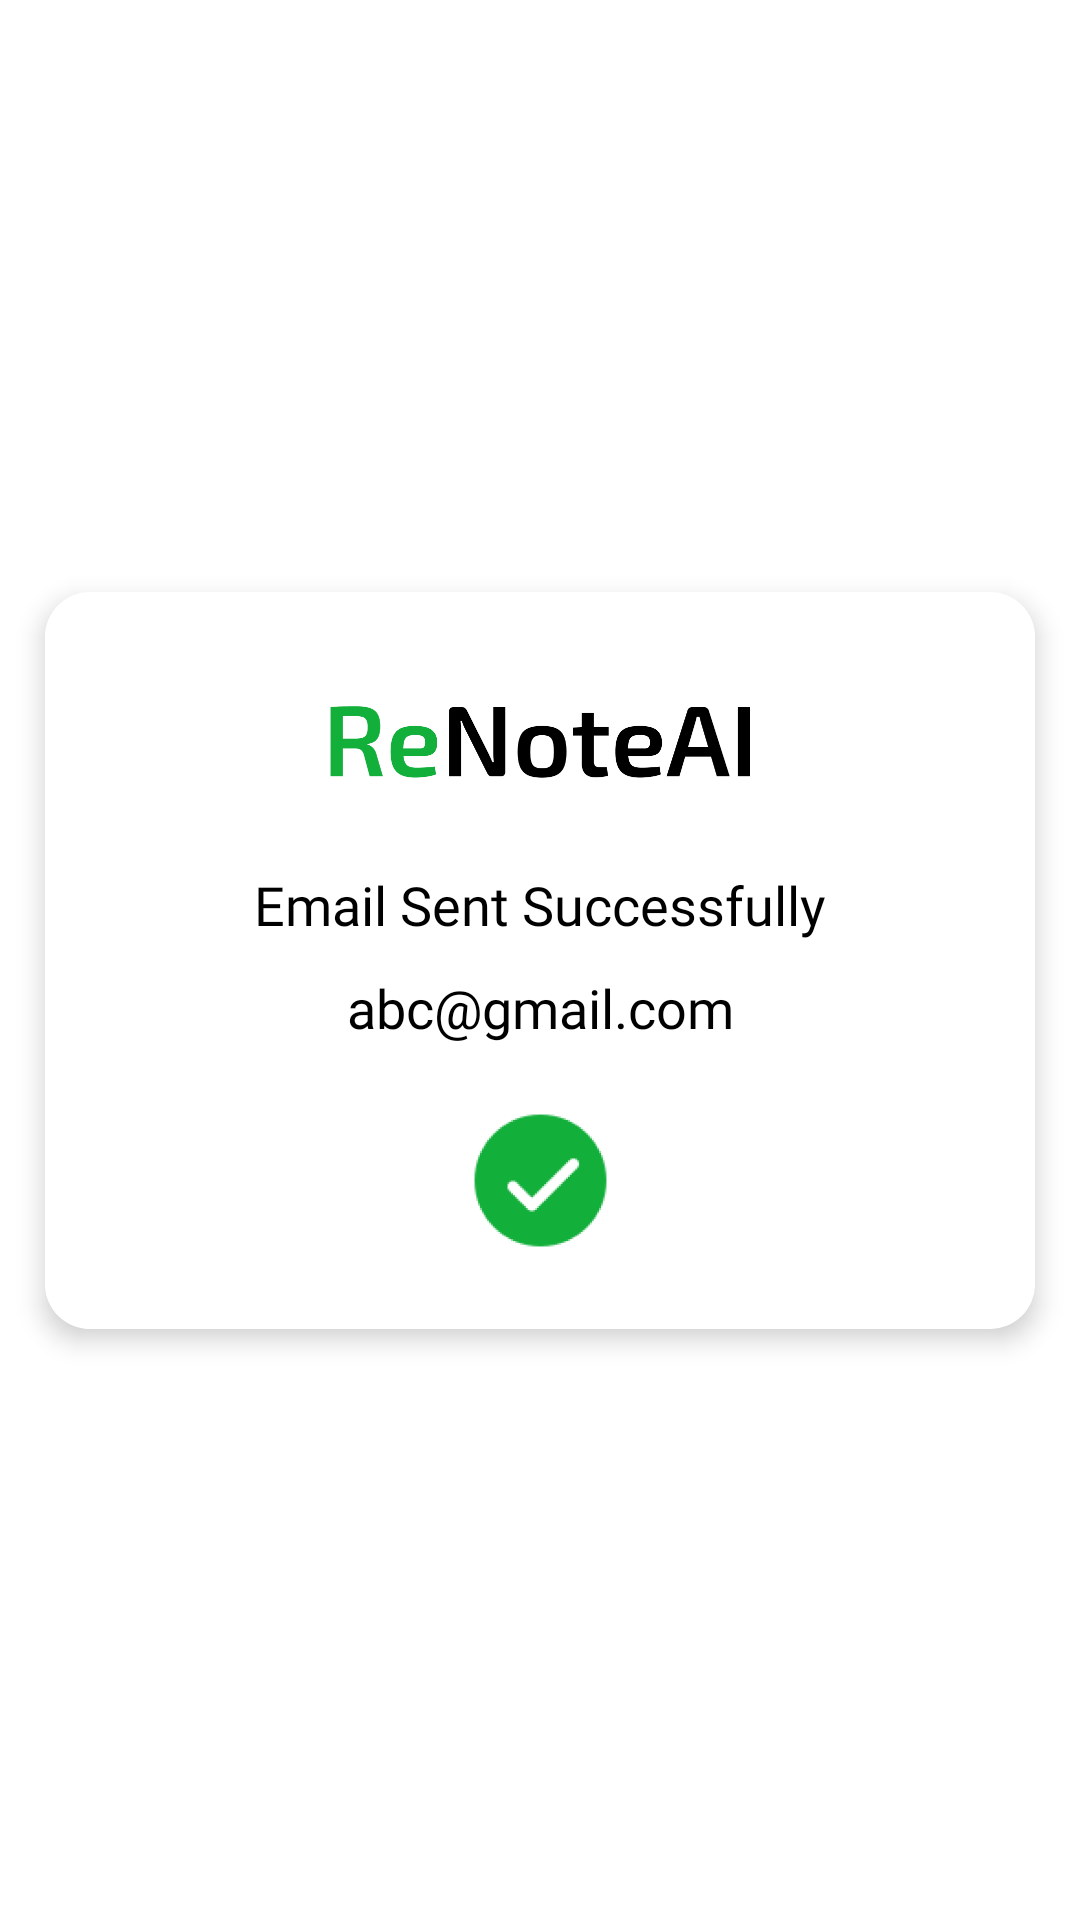

Icon click points for this 1080w x 1920h phone screenshot, format (x=x, y=y):
tick mark: (x=540, y=1180)
